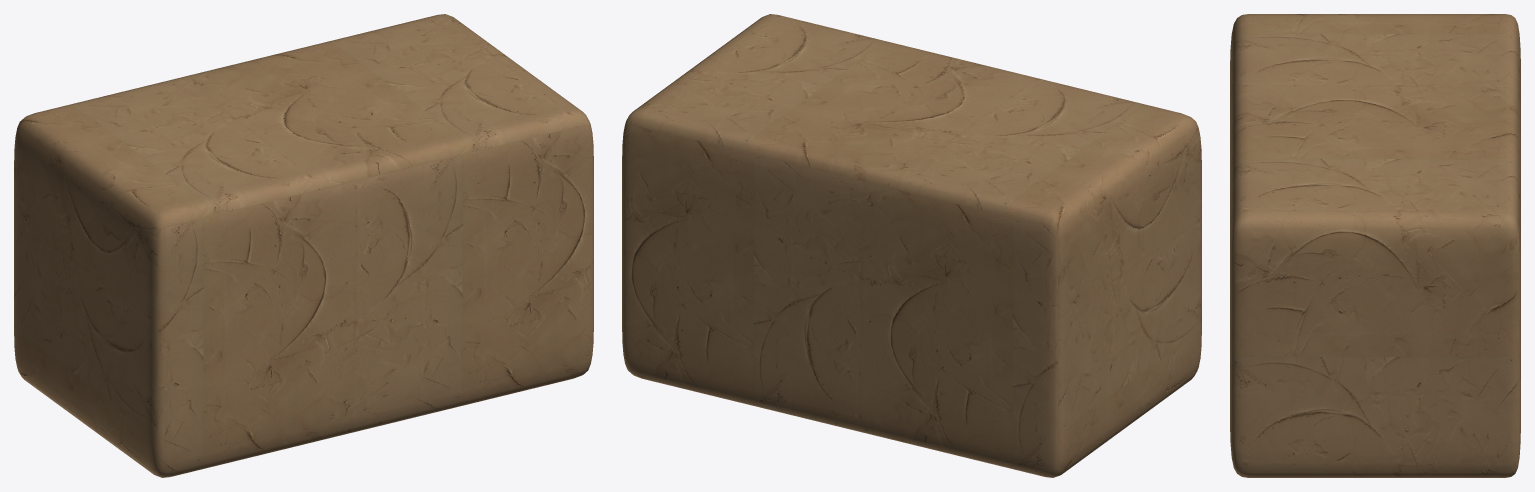
The model's file is  clay.fbx.
3 views of the same model, side by side, from view 1: azimuth 30°, elevation 25°; view 2: azimuth 150°, elevation 25°; view 3: azimuth 270°, elevation 25° (orthographic).
Parts seen in each view (by area): view 1: Cube; view 2: Cube; view 3: Cube.
Part boxes in pixels (x1,y1,x2,y2): Cube: (14, 14, 593, 477); Cube: (622, 14, 1201, 477); Cube: (1230, 14, 1520, 477).
Size of the model in its own units: 1.74 by 1 by 1.
